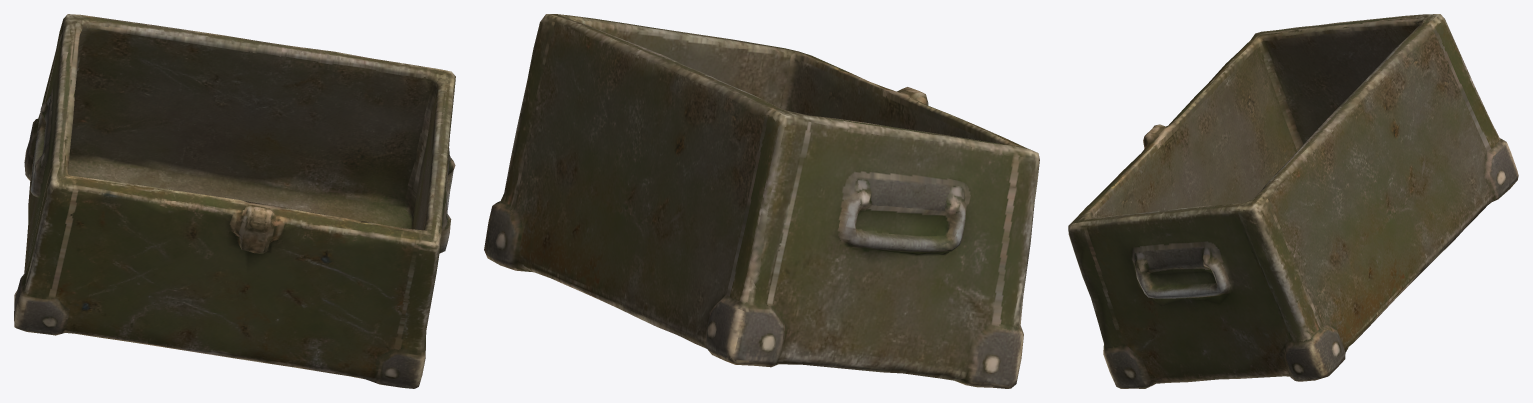
The model's file is bunker_supply_chest_body_raw.glb.
3 renders of one model, left to right at view 1: azimuth 30°, elevation 25°; view 2: azimuth 150°, elevation 25°; view 3: azimuth 270°, elevation 25°, orthographic. The views are drawn at different scales.
Bounding box in the file's own units: 0.9117 × 0.6134 × 0.8676.
1 material, 1 textured.
